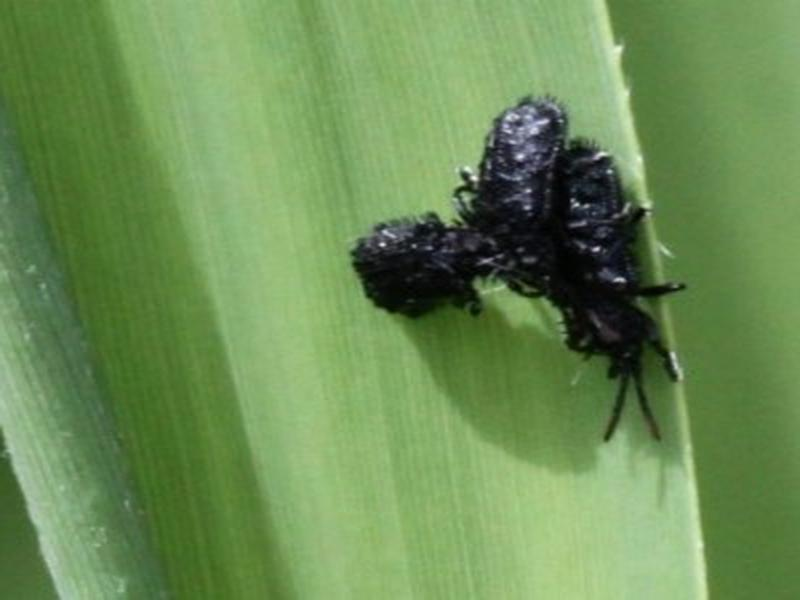Spiny_beetle: (303, 94, 701, 390)
